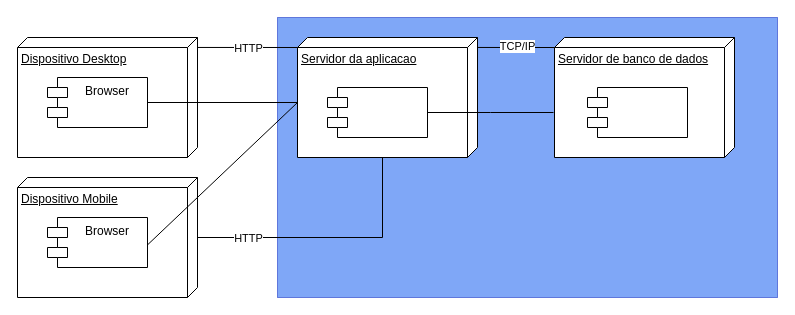
The diagram is 795 pixels wide and 315 high, and some of its shapes have lost their labels. Here are the shapes that lost their labels. From the top down, the centre of each, then its label:
(x=377, y=112): API Rest
(x=637, y=112): Postgresql
